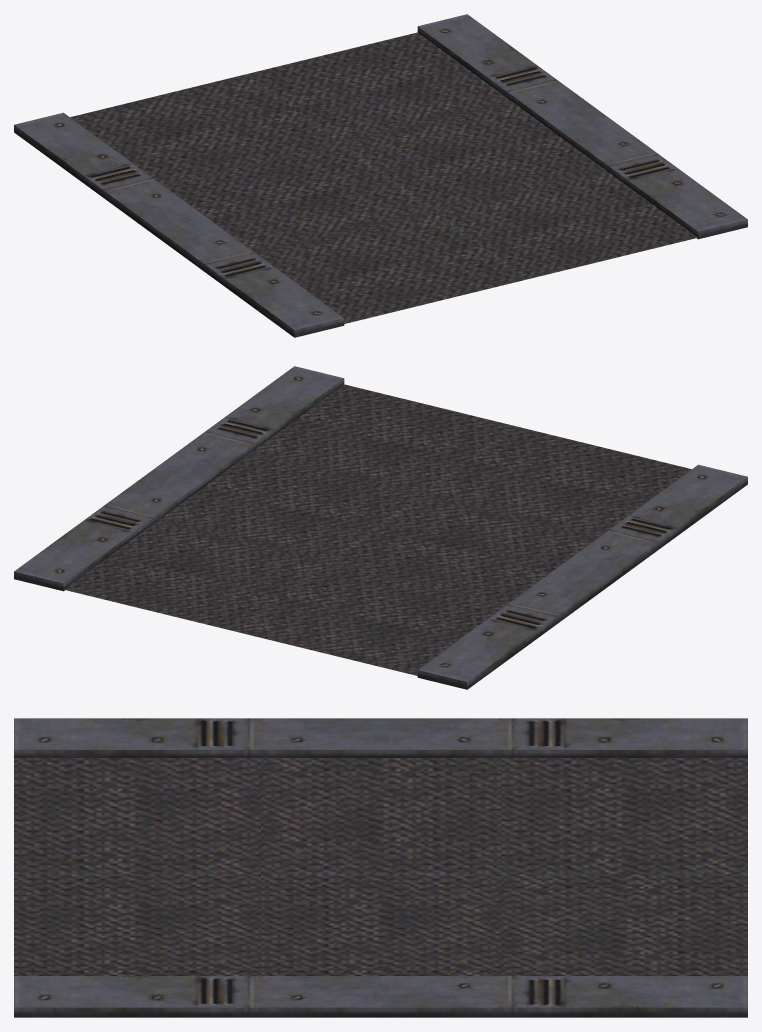
The model's file is zc_lekesigang_pinjieqiao01.FBX.
3 renders of one model, top to bottom at view 1: azimuth 30°, elevation 25°; view 2: azimuth 150°, elevation 25°; view 3: azimuth 270°, elevation 25°, orthographic. The views are drawn at different scales.
Parts seen in each view (by area): view 1: zc_lekesigang_pinjieqiao01; view 2: zc_lekesigang_pinjieqiao01; view 3: zc_lekesigang_pinjieqiao01.
Boxes of the visible parts, x1,y1,x2,y2 form: zc_lekesigang_pinjieqiao01: (14, 14, 747, 337); zc_lekesigang_pinjieqiao01: (14, 366, 747, 689); zc_lekesigang_pinjieqiao01: (14, 718, 747, 1017).
Bounding box in the file's own units: 1124 × 18.21 × 1205.
1 material, 1 textured.
